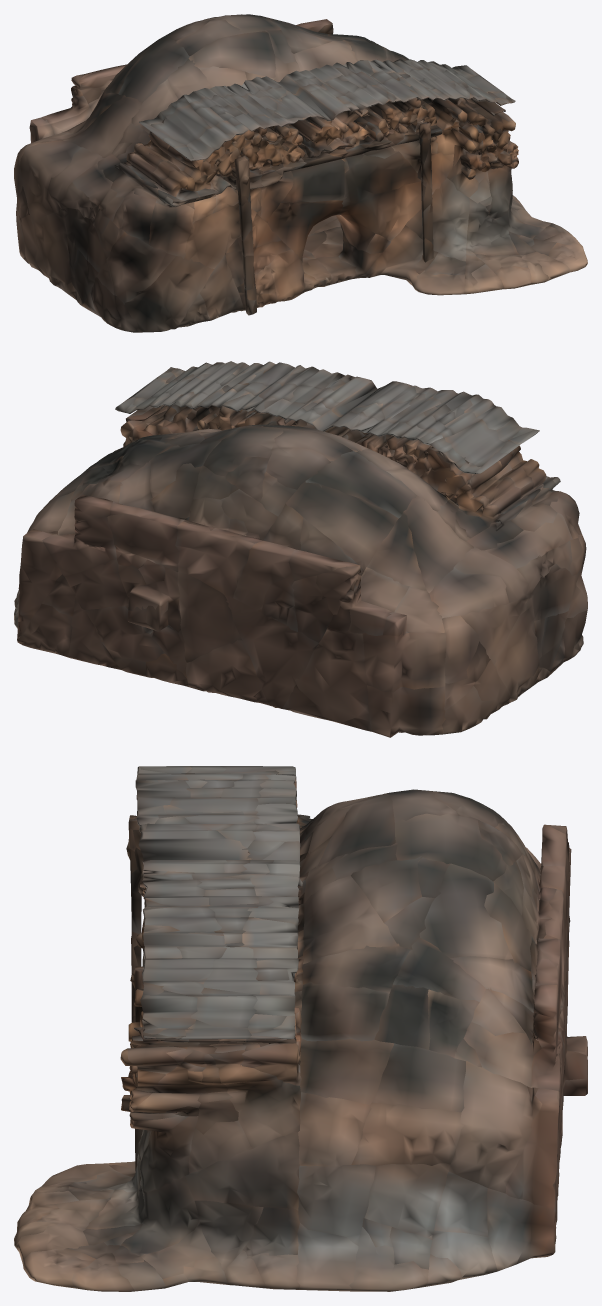
File: Kiln.glb
The picture shows the model from 3 angles, top to bottom: view 1: azimuth 30°, elevation 25°; view 2: azimuth 150°, elevation 25°; view 3: azimuth 270°, elevation 25°; orthographic projection. The views are drawn at different scales.
Parts seen in each view (by area): view 1: Mesh_0; view 2: Mesh_0; view 3: Mesh_0.
Part boxes in pixels (x1,y1,x2,y2): Mesh_0: (14,14,587,332); Mesh_0: (14,361,587,737); Mesh_0: (14,766,587,1291).
Bounding box in the file's own units: 0.9485 × 0.422 × 0.7215.
1 material, 1 textured.
